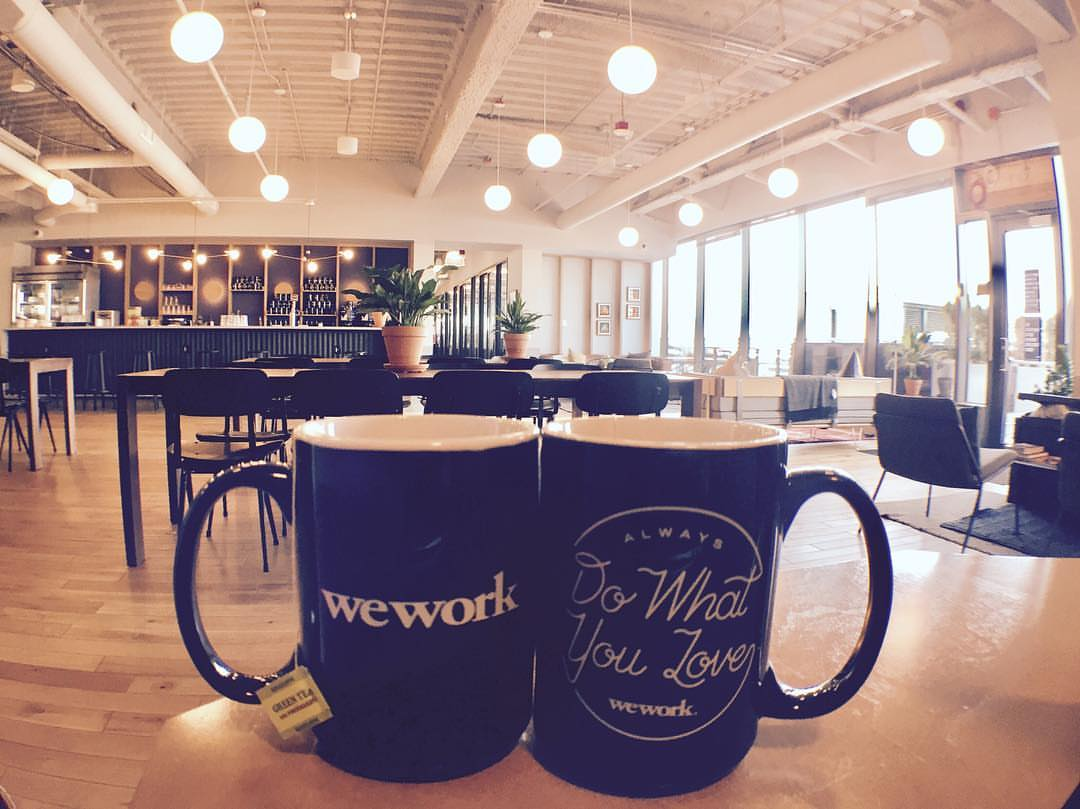wework: (317, 567, 522, 632), (603, 694, 695, 720)
